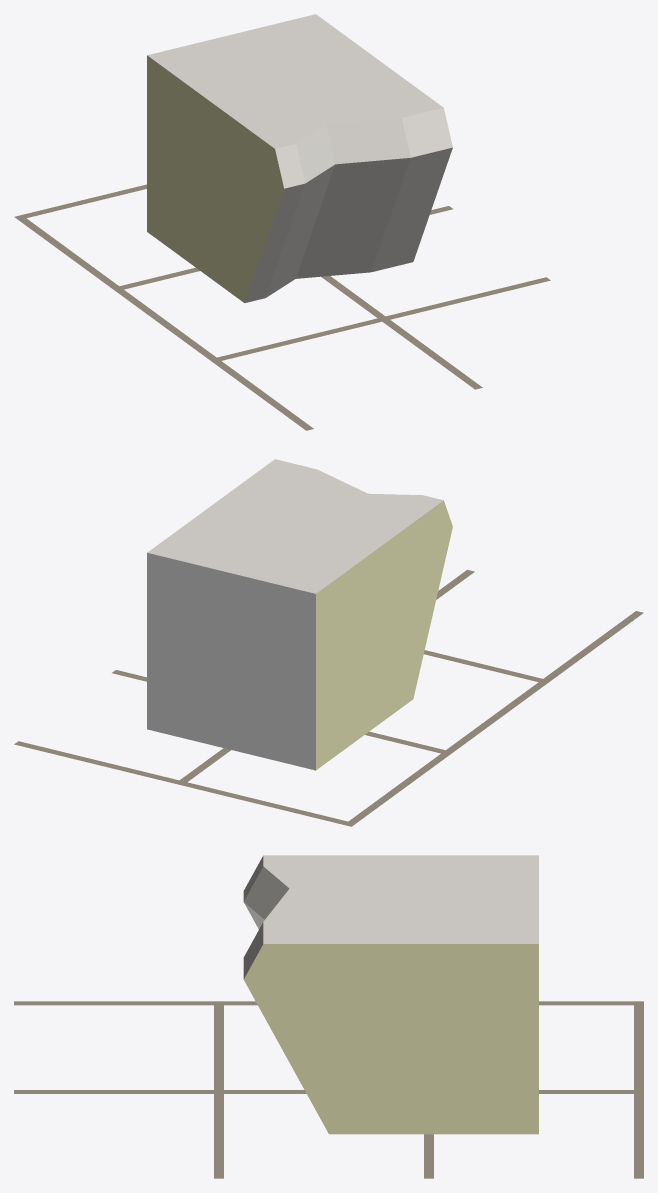
Rendered from Cracked_Straight_1x2_1_Top.glb.
3 views of the same model, one above another, from view 1: azimuth 30°, elevation 25°; view 2: azimuth 150°, elevation 25°; view 3: azimuth 270°, elevation 25° (orthographic). The views are drawn at different scales.
Visible parts, largest first — view 1: Cracked_Straight_1x2_1_Top, Floor; view 2: Cracked_Straight_1x2_1_Top, Floor; view 3: Cracked_Straight_1x2_1_Top, Floor.
Boxes of the visible parts, left/top/right/bottom form: Cracked_Straight_1x2_1_Top: left=147, top=14, right=452, bottom=303; Floor: left=14, top=184, right=550, bottom=430; Cracked_Straight_1x2_1_Top: left=147, top=459, right=452, bottom=770; Floor: left=14, top=569, right=643, bottom=826; Cracked_Straight_1x2_1_Top: left=243, top=855, right=538, bottom=1134; Floor: left=14, top=1001, right=643, bottom=1178.
Bounding box in the file's own units: 200 × 100 × 300.
4 materials, 1 textured.
